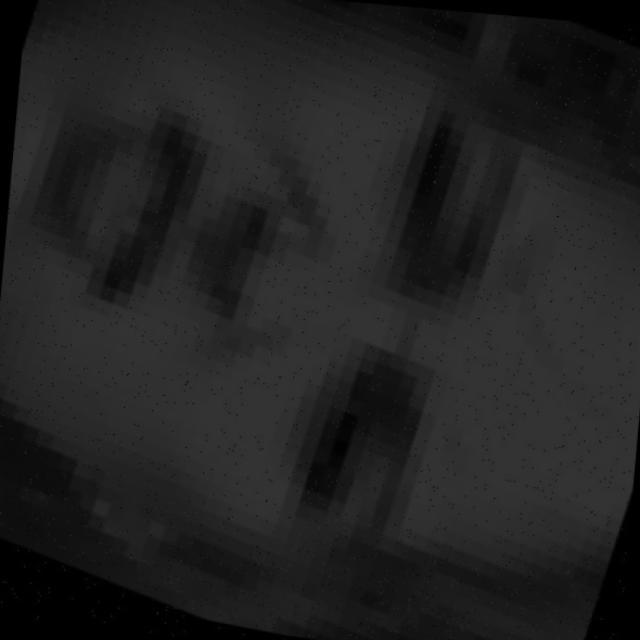Disgust: (55, 43, 603, 563)
